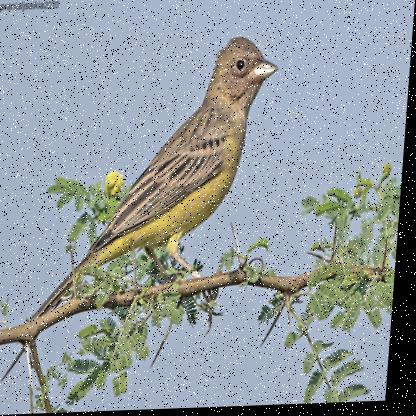Burung: (27, 37, 282, 352)
